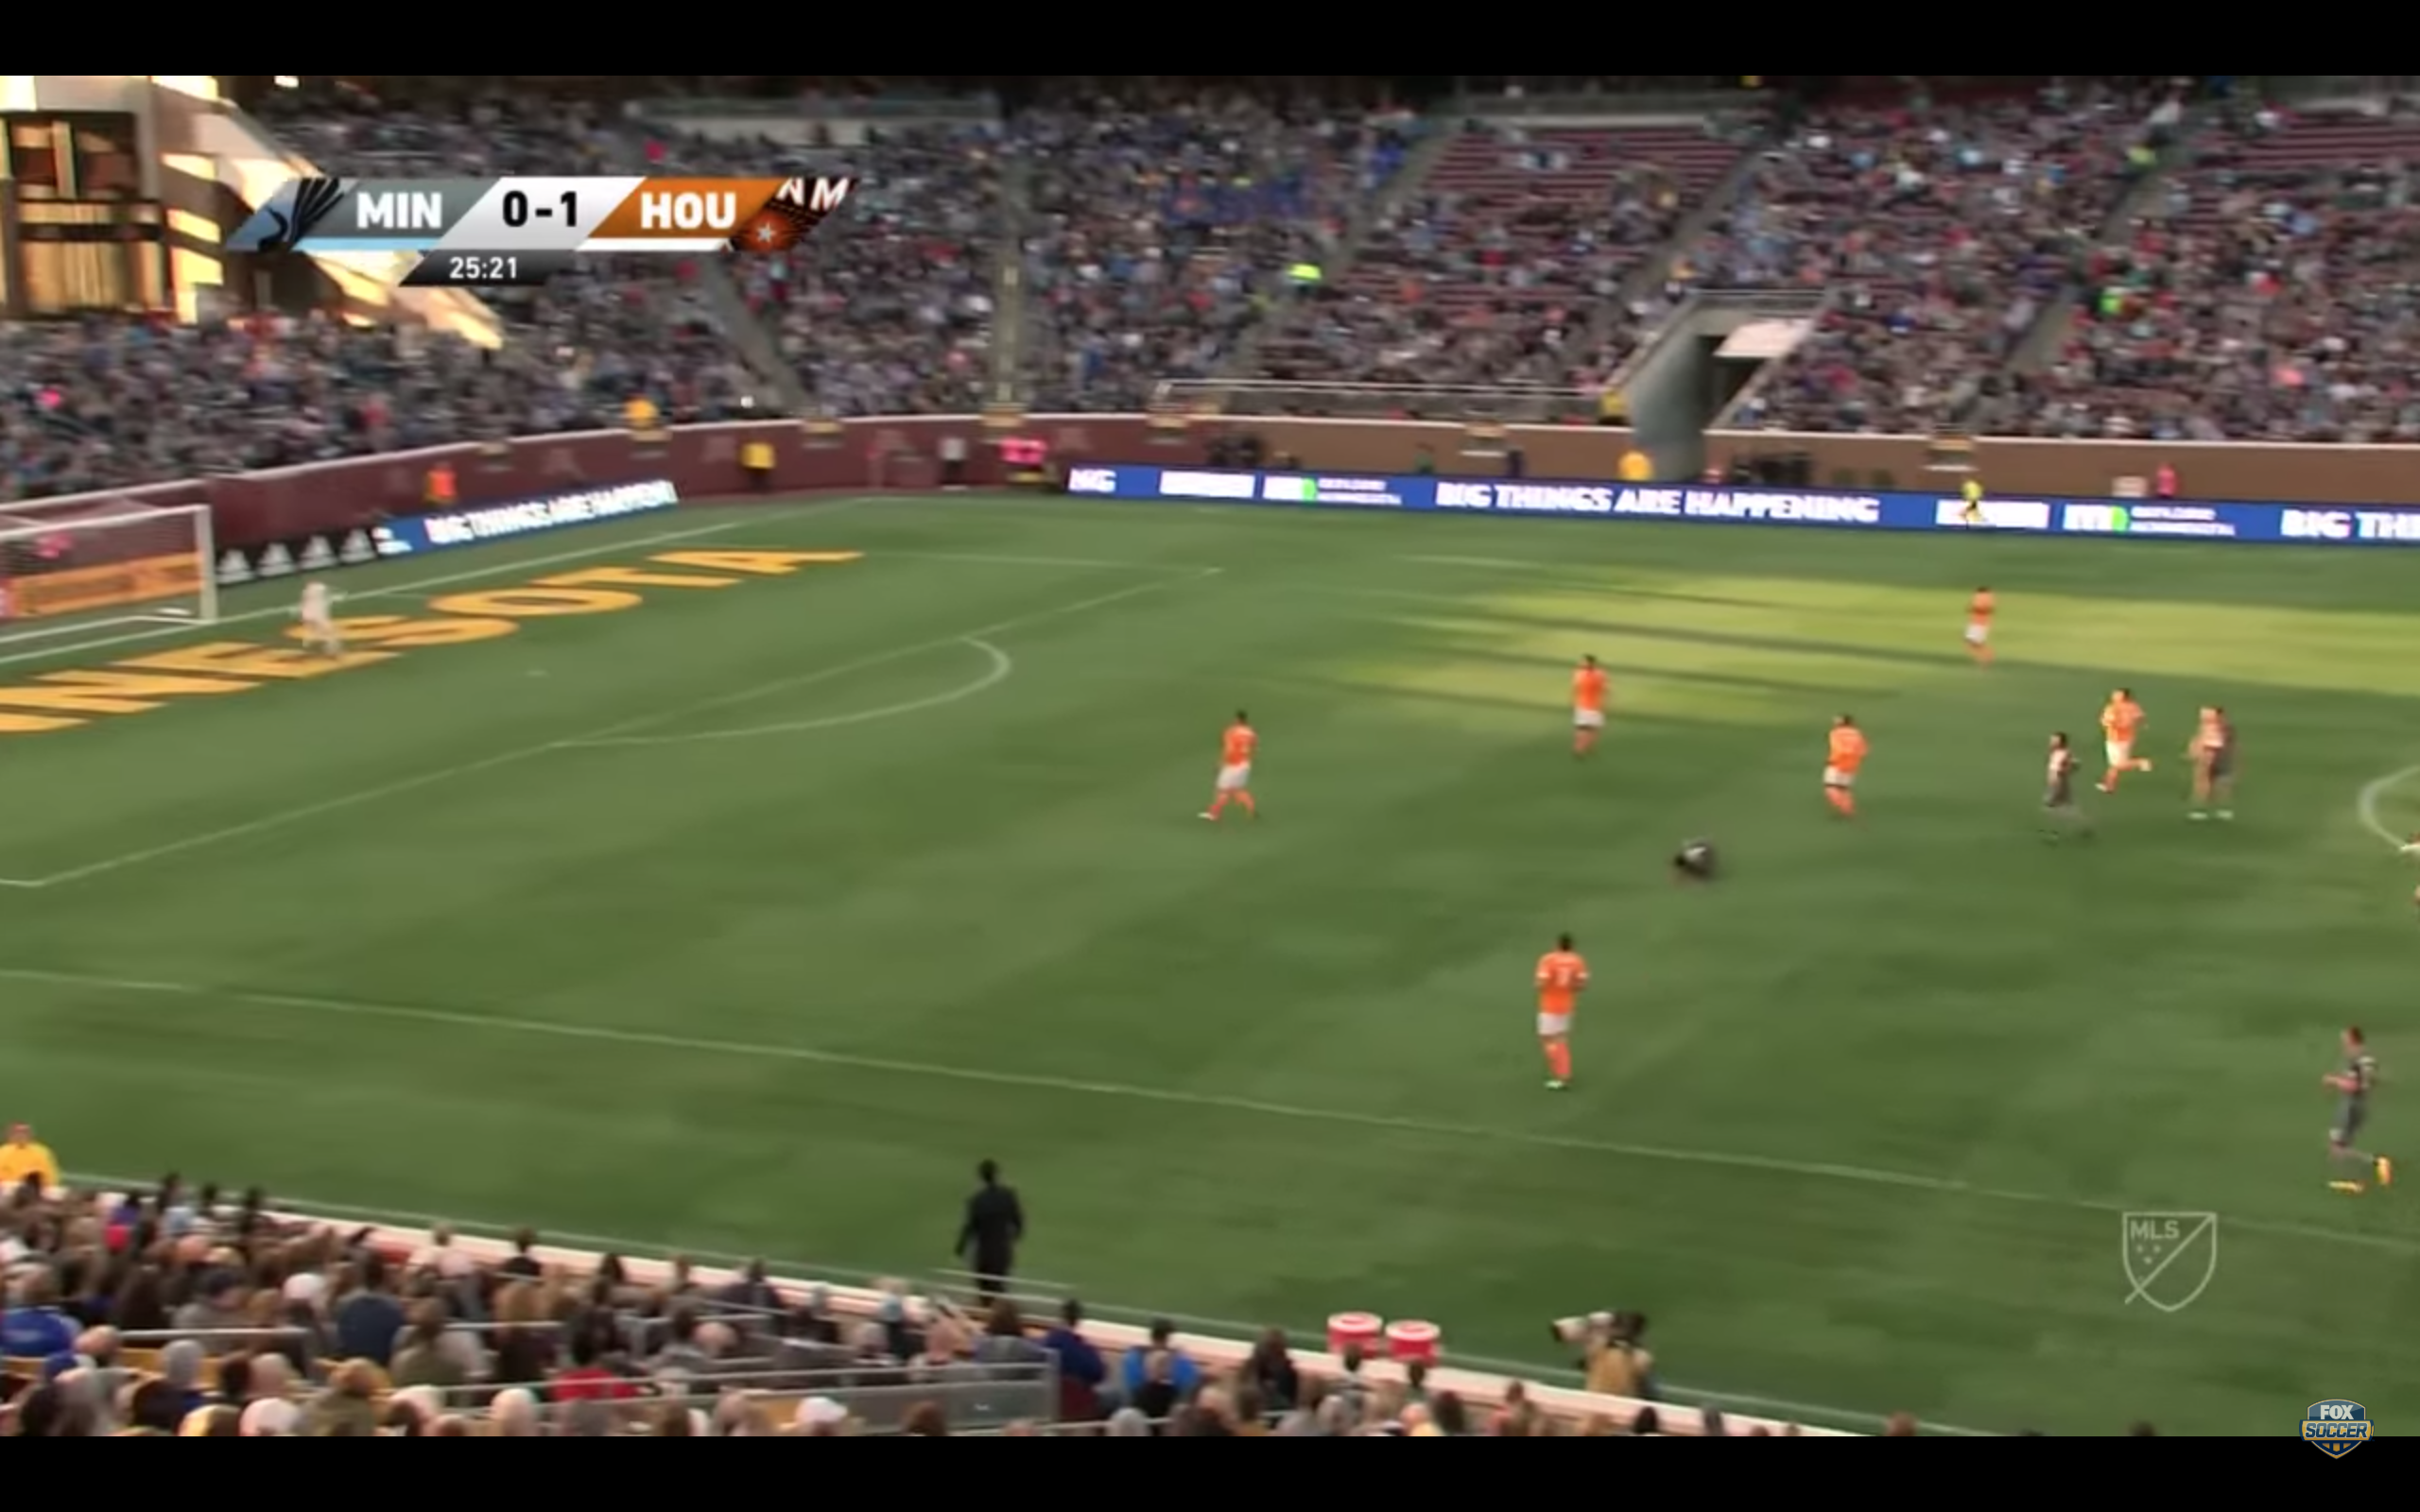soccer player: (2307, 1017, 2403, 1204), (1516, 928, 1601, 1101), (1191, 700, 1273, 833), (2170, 703, 2254, 828), (2032, 724, 2101, 853), (2087, 686, 2157, 799), (278, 576, 359, 665), (1558, 644, 1618, 761), (1821, 712, 1875, 828), (1956, 580, 2007, 675)
